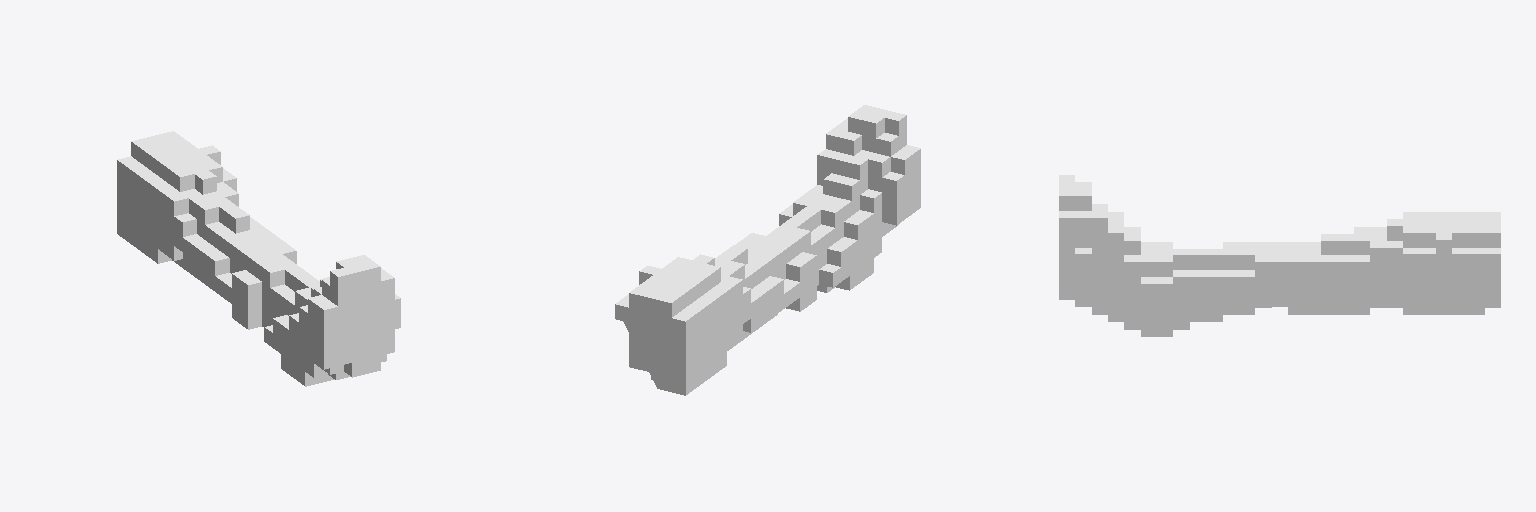
File: kelpie_leg.obj
3 renders of one model, left to right at view 1: azimuth 30°, elevation 25°; view 2: azimuth 150°, elevation 25°; view 3: azimuth 270°, elevation 25°, orthographic.
Visible parts, largest first — view 1: kon; view 2: kon; view 3: kon.
Part boxes in pixels (x1,y1,x2,y2): kon: (117,131,400,386); kon: (615,105,920,395); kon: (1059,175,1500,336).
Bounding box in the file's own units: 6 × 9 × 27.